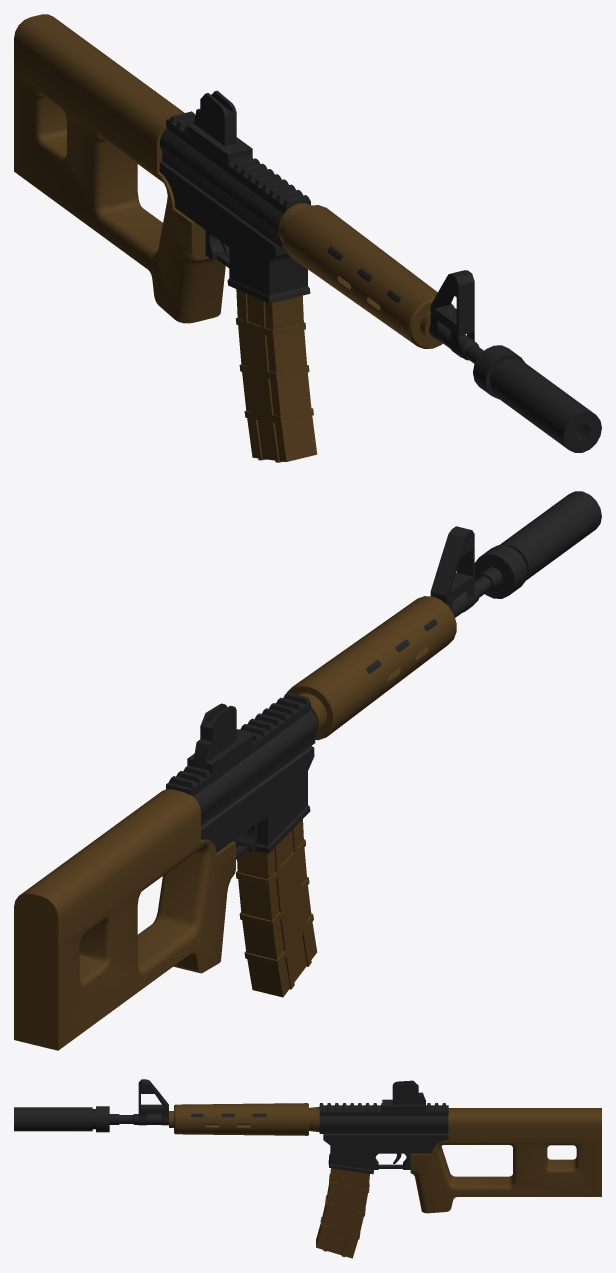
The model's file is Gun07.fbx.
The picture shows the model from 3 angles, top to bottom: view 1: azimuth 30°, elevation 25°; view 2: azimuth 150°, elevation 25°; view 3: azimuth 270°, elevation 25°; orthographic projection. The views are drawn at different scales.
Visible parts, largest first — view 1: Gun07; view 2: Gun07; view 3: Gun07.
Boxes of the visible parts, x1=… form: Gun07: x1=14, y1=14, x2=601, y2=462; Gun07: x1=14, y1=491, x2=601, y2=1050; Gun07: x1=14, y1=1079, x2=601, y2=1258.
Bounding box in the file's own units: 12.68 × 74.88 × 230.
